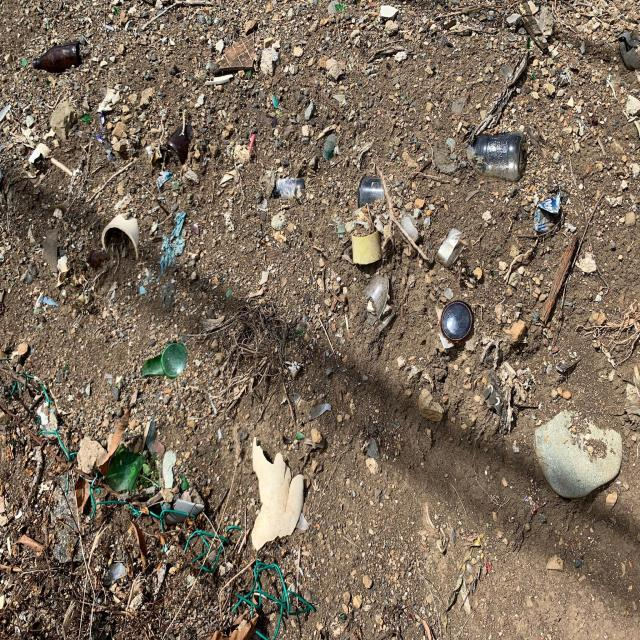litter: (466, 132, 527, 180), (107, 443, 147, 492), (141, 343, 188, 377), (33, 41, 80, 74), (165, 121, 194, 165), (442, 300, 472, 341), (365, 273, 389, 319), (534, 194, 560, 232), (359, 175, 383, 208), (309, 402, 330, 420)
